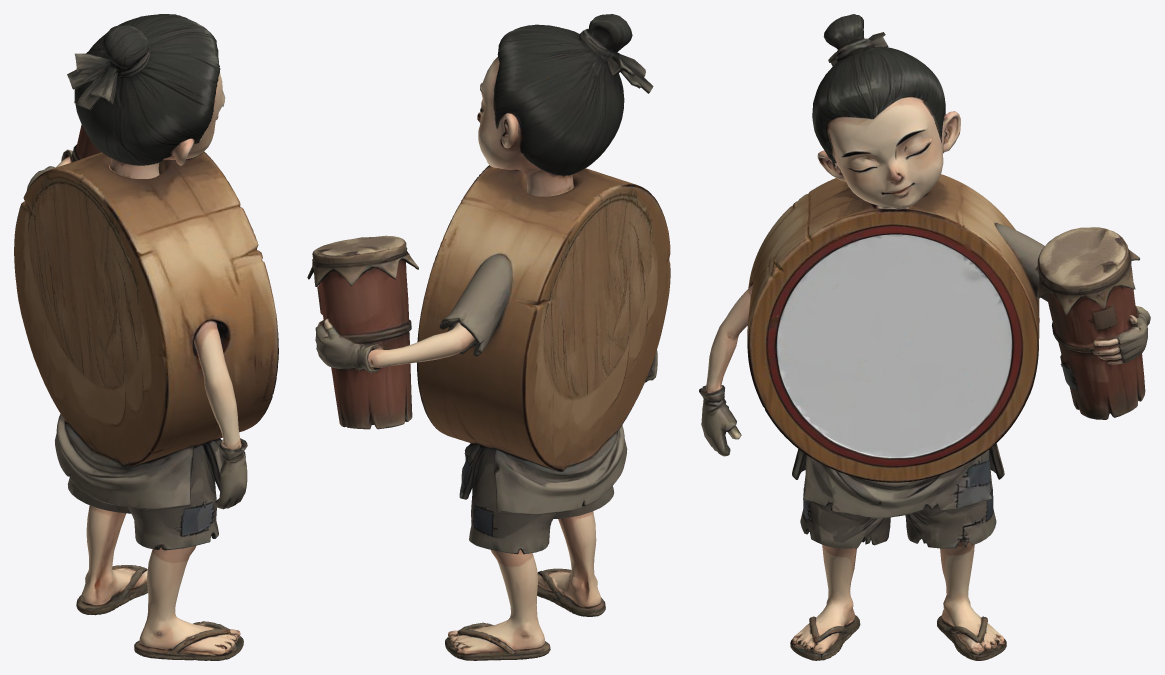
File: p_b1p_gegu.glb
The picture shows the model from 3 angles, left to right: view 1: azimuth 30°, elevation 25°; view 2: azimuth 150°, elevation 25°; view 3: azimuth 270°, elevation 25°; orthographic projection. The views are drawn at different scales.
Parts seen in each view (by area): view 1: tripo_node_49be1248-c3f9-49f6-a4c9-7db86e07bbfa; view 2: tripo_node_49be1248-c3f9-49f6-a4c9-7db86e07bbfa; view 3: tripo_node_49be1248-c3f9-49f6-a4c9-7db86e07bbfa.
Boxes of the visible parts, left/top/right/bottom form: tripo_node_49be1248-c3f9-49f6-a4c9-7db86e07bbfa: left=14, top=14, right=278, bottom=660; tripo_node_49be1248-c3f9-49f6-a4c9-7db86e07bbfa: left=307, top=14, right=670, bottom=660; tripo_node_49be1248-c3f9-49f6-a4c9-7db86e07bbfa: left=699, top=14, right=1150, bottom=660.
Size of the model in its own units: 0.3679 by 0.9797 by 0.6709.
Materials: 1 (1 with a texture image).
